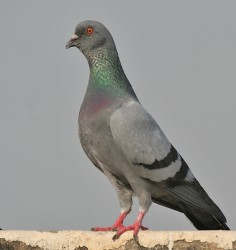pigeon: (62, 18, 232, 241)
